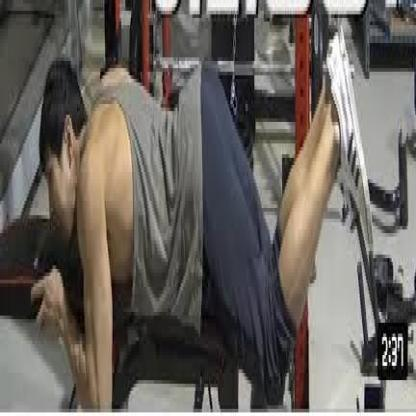reg curl machine: (20, 9, 398, 414)
